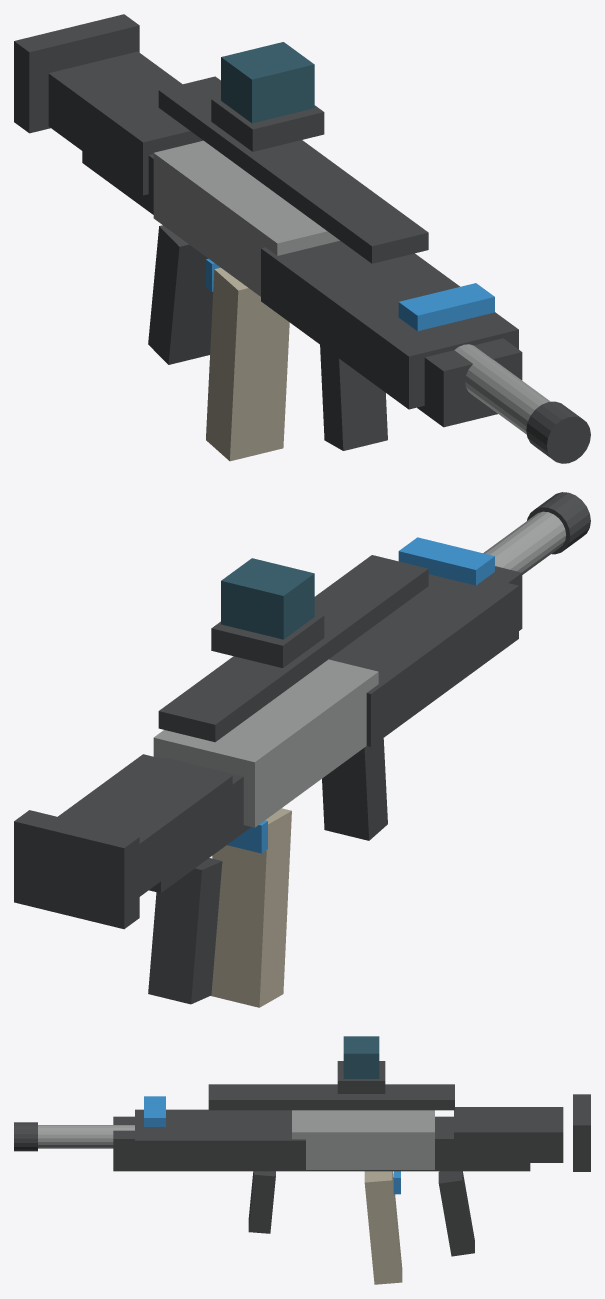
File: wpn_a1_modern_rifle_01.glb
3 renders of one model, top to bottom at view 1: azimuth 30°, elevation 25°; view 2: azimuth 150°, elevation 25°; view 3: azimuth 270°, elevation 25°, orthographic. The views are drawn at different scales.
Visible parts, largest first — view 1: wpn_a1_modern_rifle_01_lod0_handguard, wpn_a1_modern_rifle_01_lod0_receiver, wpn_a1_modern_rifle_01_lod0_upper_rail, wpn_a1_modern_rifle_01_lod0_magazine, wpn_a1_modern_rifle_01_lod0_rear_stock, wpn_a1_modern_rifle_01_lod0_stock_pad, wpn_a1_modern_rifle_01_lod0_grip, wpn_a1_modern_rifle_01_lod0_optic_body, wpn_a1_modern_rifle_01_lod1_blockout, wpn_a1_modern_rifle_01_lod0_support_grip, wpn_a1_modern_rifle_01_lod0_barrel_visual, wpn_a1_modern_rifle_01_lod0_optic_base (+2 smaller); view 2: wpn_a1_modern_rifle_01_lod0_receiver, wpn_a1_modern_rifle_01_lod0_handguard, wpn_a1_modern_rifle_01_lod0_upper_rail, wpn_a1_modern_rifle_01_lod0_rear_stock, wpn_a1_modern_rifle_01_lod0_stock_pad, wpn_a1_modern_rifle_01_lod0_magazine, wpn_a1_modern_rifle_01_lod0_grip, wpn_a1_modern_rifle_01_lod0_optic_body, wpn_a1_modern_rifle_01_lod0_support_grip, wpn_a1_modern_rifle_01_lod0_optic_base, wpn_a1_modern_rifle_01_lod0_barrel_visual, wpn_a1_modern_rifle_01_lod0_forward_mark (+3 smaller); view 3: wpn_a1_modern_rifle_01_lod0_handguard, wpn_a1_modern_rifle_01_lod0_receiver, wpn_a1_modern_rifle_01_lod0_upper_rail, wpn_a1_modern_rifle_01_lod0_rear_stock, wpn_a1_modern_rifle_01_lod0_magazine, wpn_a1_modern_rifle_01_lod1_blockout, wpn_a1_modern_rifle_01_lod0_grip, wpn_a1_modern_rifle_01_lod0_barrel_visual, wpn_a1_modern_rifle_01_lod0_optic_body, wpn_a1_modern_rifle_01_lod0_support_grip, wpn_a1_modern_rifle_01_lod0_stock_pad, wpn_a1_modern_rifle_01_lod0_optic_base (+2 smaller).
Boxes of the visible parts, left/top/right/bottom form: wpn_a1_modern_rifle_01_lod0_handguard: left=261, top=240, right=518, bottom=409; wpn_a1_modern_rifle_01_lod0_receiver: left=153, top=140, right=339, bottom=296; wpn_a1_modern_rifle_01_lod0_upper_rail: left=158, top=76, right=428, bottom=263; wpn_a1_modern_rifle_01_lod0_magazine: left=206, top=267, right=289, bottom=461; wpn_a1_modern_rifle_01_lod0_rear_stock: left=48, top=51, right=203, bottom=195; wpn_a1_modern_rifle_01_lod0_stock_pad: left=14, top=14, right=139, bottom=133; wpn_a1_modern_rifle_01_lod0_grip: left=148, top=225, right=213, bottom=364; wpn_a1_modern_rifle_01_lod0_optic_body: left=221, top=42, right=314, bottom=123; wpn_a1_modern_rifle_01_lod1_blockout: left=82, top=151, right=522, bottom=427; wpn_a1_modern_rifle_01_lod0_support_grip: left=320, top=345, right=387, bottom=450; wpn_a1_modern_rifle_01_lod0_barrel_visual: left=454, top=344, right=550, bottom=434; wpn_a1_modern_rifle_01_lod0_optic_base: left=211, top=97, right=324, bottom=151; wpn_a1_modern_rifle_01_lod0_receiver: left=153, top=659, right=378, bottom=827; wpn_a1_modern_rifle_01_lod0_handguard: left=329, top=574, right=518, bottom=746; wpn_a1_modern_rifle_01_lod0_upper_rail: left=158, top=555, right=428, bottom=742; wpn_a1_modern_rifle_01_lod0_rear_stock: left=58, top=754, right=232, bottom=896; wpn_a1_modern_rifle_01_lod0_stock_pad: left=14, top=810, right=139, bottom=929; wpn_a1_modern_rifle_01_lod0_magazine: left=211, top=808, right=291, bottom=1007; wpn_a1_modern_rifle_01_lod0_grip: left=148, top=858, right=222, bottom=1004; wpn_a1_modern_rifle_01_lod0_optic_body: left=221, top=558, right=314, bottom=639; wpn_a1_modern_rifle_01_lod0_support_grip: left=322, top=738, right=387, bottom=840; wpn_a1_modern_rifle_01_lod0_optic_base: left=211, top=613, right=324, bottom=667; wpn_a1_modern_rifle_01_lod0_barrel_visual: left=483, top=511, right=565, bottom=574; wpn_a1_modern_rifle_01_lod0_forward_mark: left=398, top=537, right=494, bottom=585; wpn_a1_modern_rifle_01_lod0_handguard: left=135, top=1109, right=305, bottom=1171; wpn_a1_modern_rifle_01_lod0_receiver: left=292, top=1110, right=434, bottom=1169; wpn_a1_modern_rifle_01_lod0_upper_rail: left=208, top=1084, right=454, bottom=1110; wpn_a1_modern_rifle_01_lod0_rear_stock: left=454, top=1107, right=563, bottom=1162; wpn_a1_modern_rifle_01_lod0_magazine: left=364, top=1171, right=402, bottom=1284; wpn_a1_modern_rifle_01_lod1_blockout: left=113, top=1116, right=530, bottom=1171; wpn_a1_modern_rifle_01_lod0_grip: left=438, top=1171, right=474, bottom=1256; wpn_a1_modern_rifle_01_lod0_barrel_visual: left=38, top=1125, right=134, bottom=1148; wpn_a1_modern_rifle_01_lod0_optic_body: left=343, top=1036, right=379, bottom=1078; wpn_a1_modern_rifle_01_lod0_support_grip: left=248, top=1171, right=275, bottom=1233; wpn_a1_modern_rifle_01_lod0_stock_pad: left=573, top=1094, right=590, bottom=1171; wpn_a1_modern_rifle_01_lod0_optic_base: left=337, top=1061, right=385, bottom=1093.
Size of the model in its own units: 0.185 by 0.645 by 1.45.
